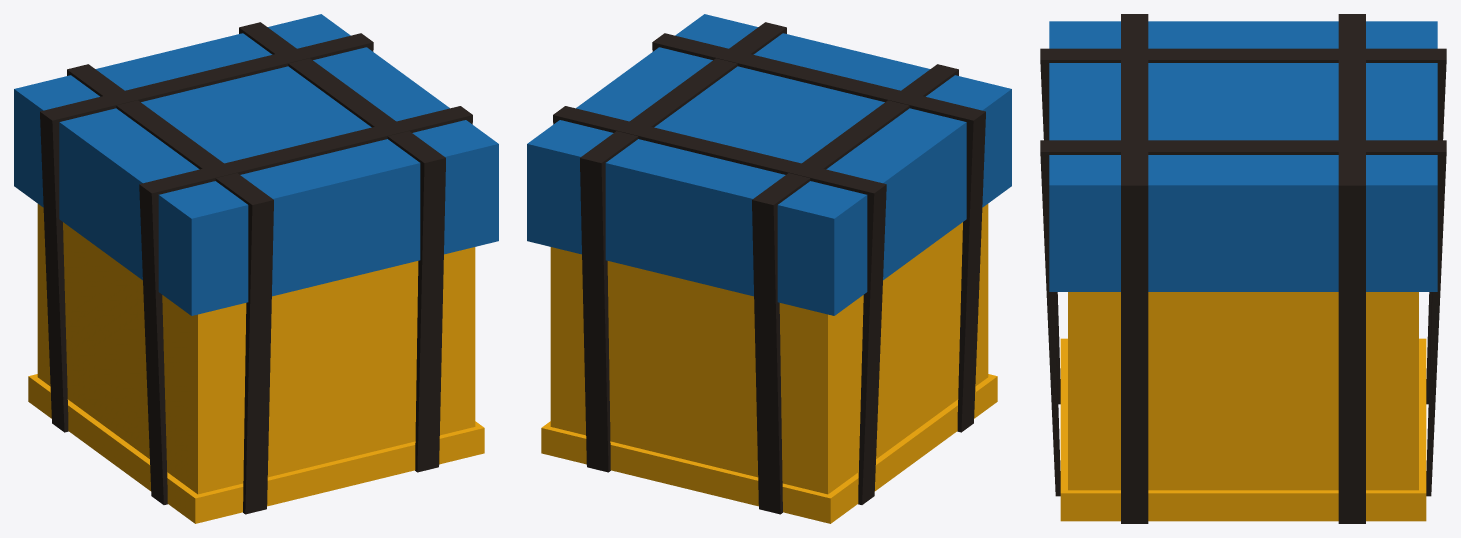
The model's file is Crate.fbx.
3 renders of one model, left to right at view 1: azimuth 30°, elevation 25°; view 2: azimuth 150°, elevation 25°; view 3: azimuth 270°, elevation 25°, orthographic. The views are drawn at different scales.
Parts seen in each view (by area): view 1: Crate; view 2: Crate; view 3: Crate.
Part boxes in pixels (x1,y1,x2,y2): Crate: (14, 14, 498, 523); Crate: (527, 14, 1011, 523); Crate: (1040, 14, 1446, 523).
Size of the model in its own units: 154 by 144 by 154.
